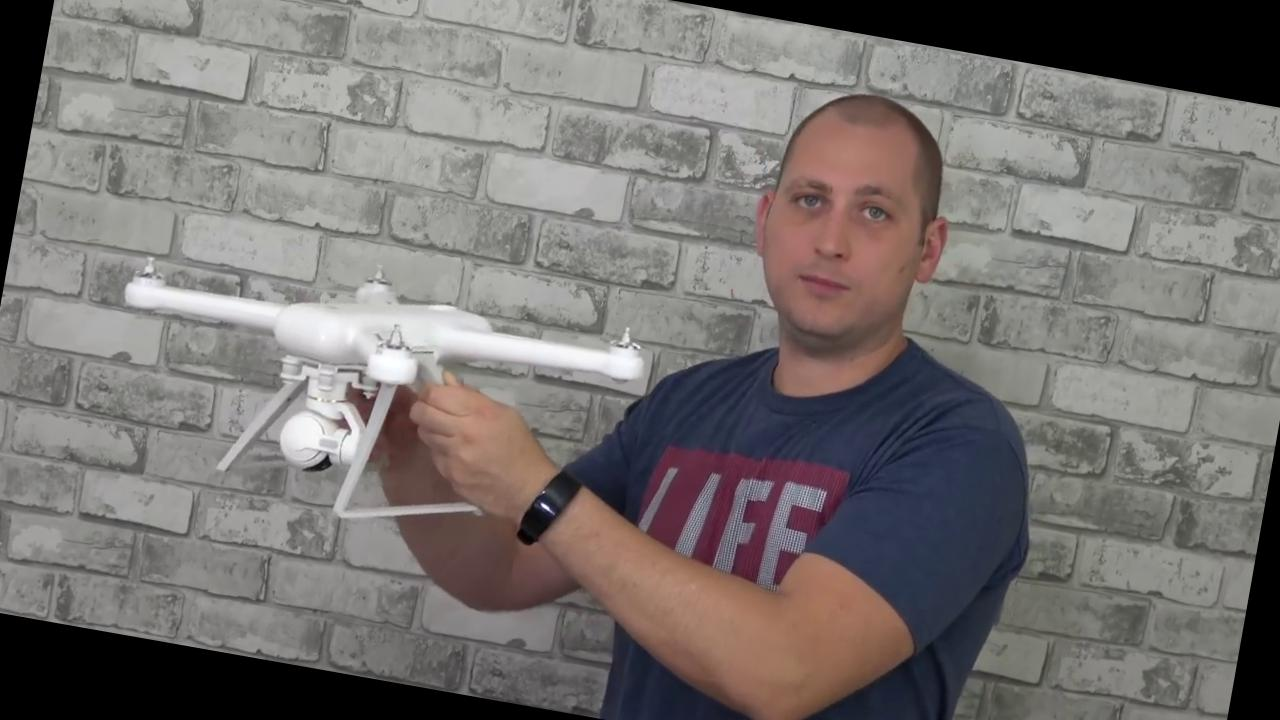drone: (95, 206, 673, 441)
